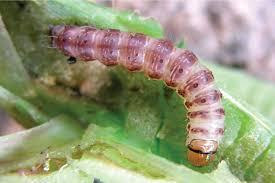insect: (44, 20, 228, 168)
